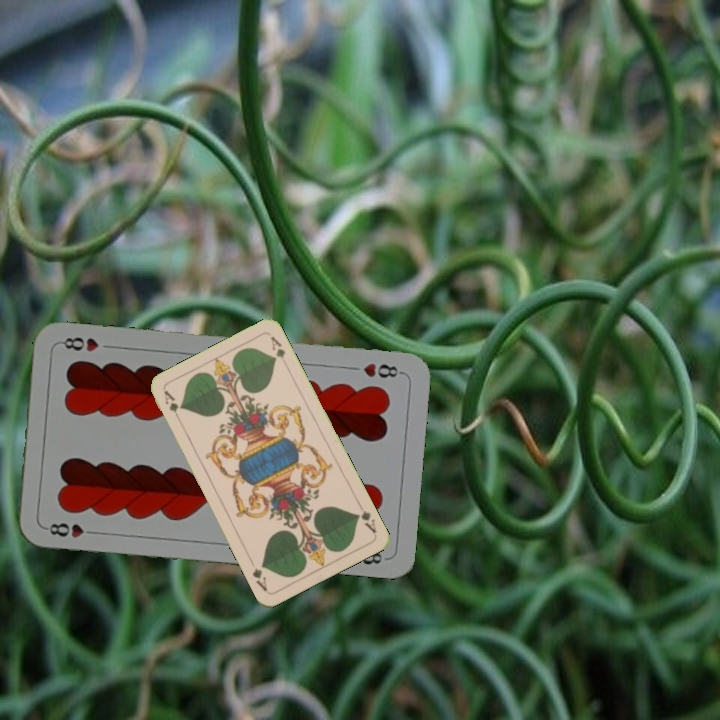GA: (351, 498, 379, 536), (160, 386, 184, 425)
H8: (41, 519, 100, 540), (359, 359, 405, 380)
